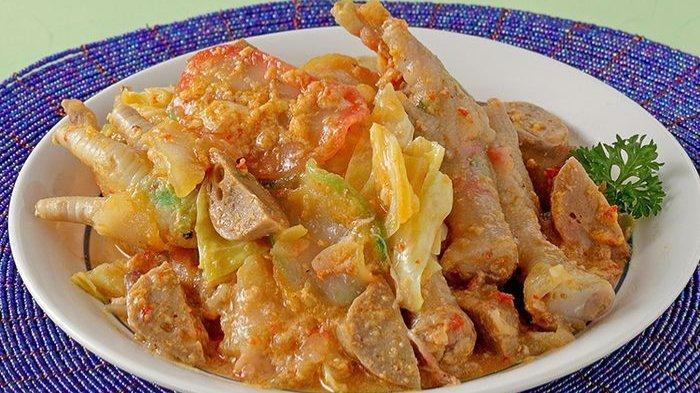seblak: (34, 3, 632, 393)
